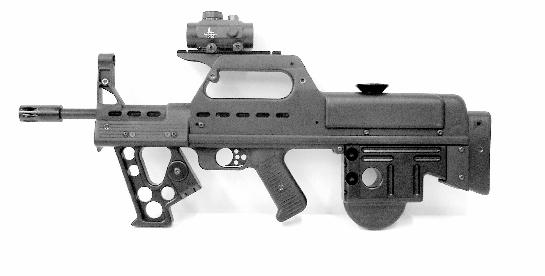rifle: (17, 10, 504, 248)
